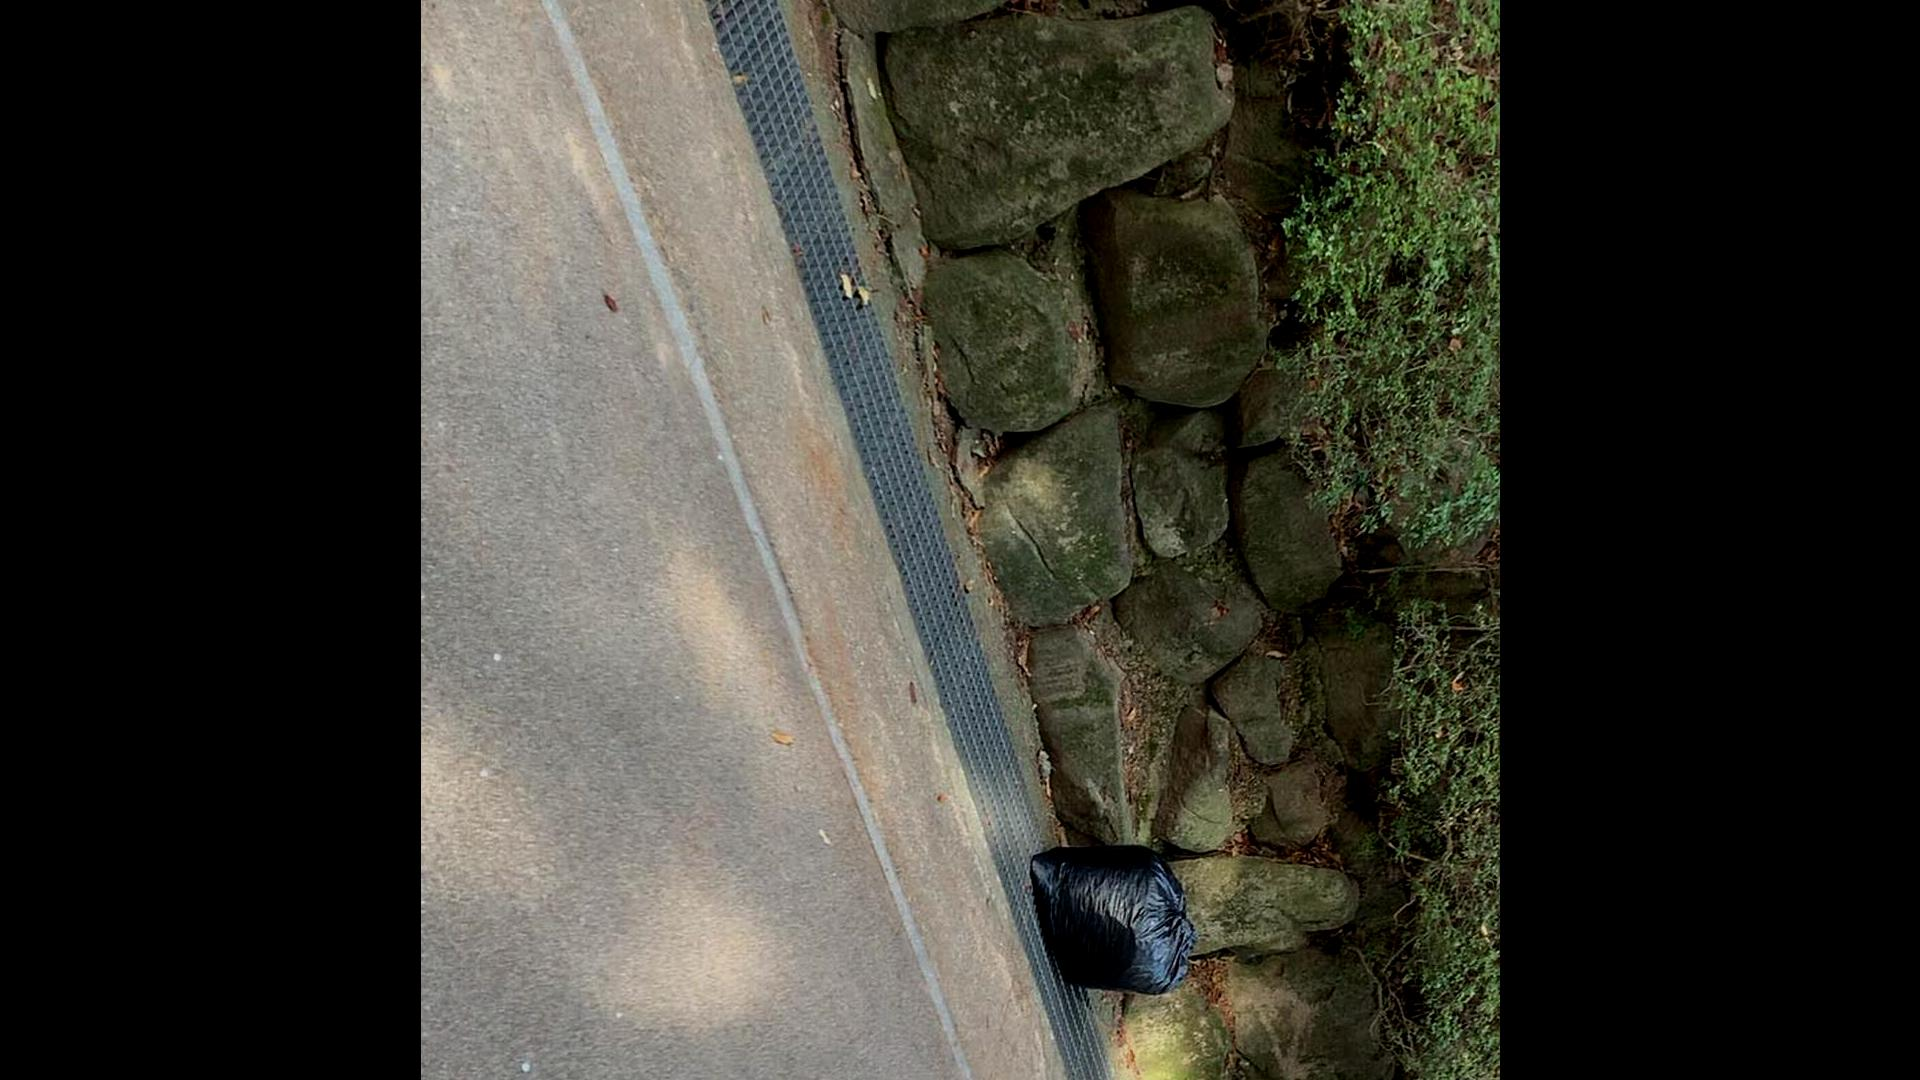black_bag: (1029, 843, 1203, 1000)
